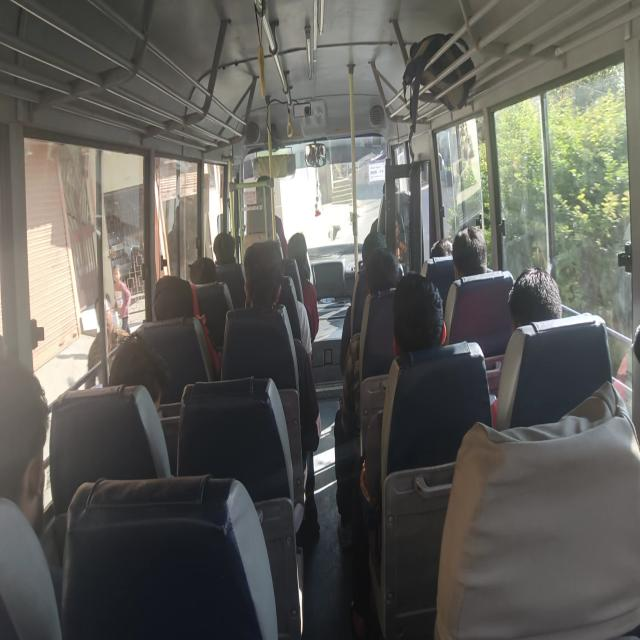person: (500, 250, 578, 368), (120, 328, 180, 428), (392, 277, 455, 360), (24, 361, 51, 510), (452, 211, 498, 284), (150, 272, 202, 336), (265, 242, 288, 324), (188, 245, 226, 292), (373, 252, 407, 296), (424, 231, 471, 259), (212, 228, 242, 270), (290, 227, 312, 275), (362, 230, 389, 260)
